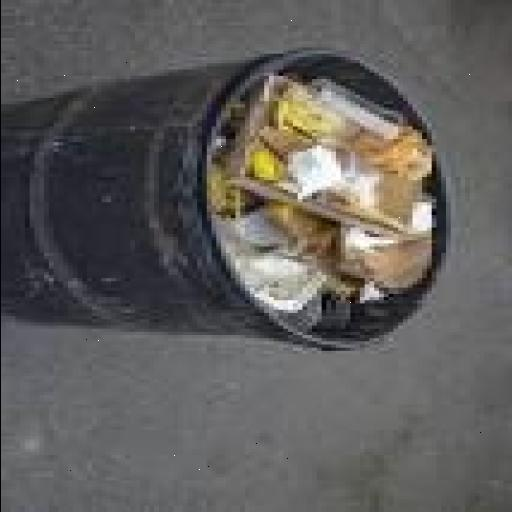poubelle_pleine: (4, 26, 457, 372)
